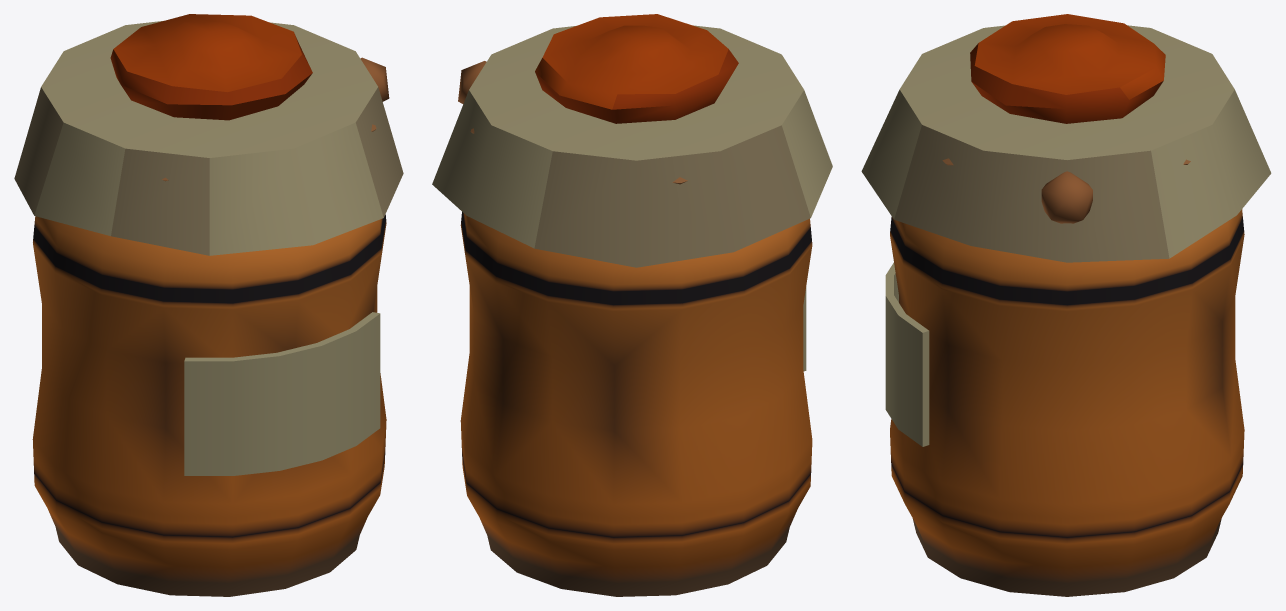
Rendered from Madde_Kukurt.fbx.
3 views of the same model, side by side, from view 1: azimuth 30°, elevation 25°; view 2: azimuth 150°, elevation 25°; view 3: azimuth 270°, elevation 25° (orthographic).
Parts seen in each view (by area): view 1: Madde_Kukurt_Model; view 2: Madde_Kukurt_Model; view 3: Madde_Kukurt_Model.
Part boxes in pixels (left/top/right/bottom): Madde_Kukurt_Model: left=14, top=14, right=403, bottom=596; Madde_Kukurt_Model: left=432, top=14, right=832, bottom=596; Madde_Kukurt_Model: left=861, top=14, right=1271, bottom=596.
Bounding box in the file's own units: 0.1226 × 0.1683 × 0.1245.
